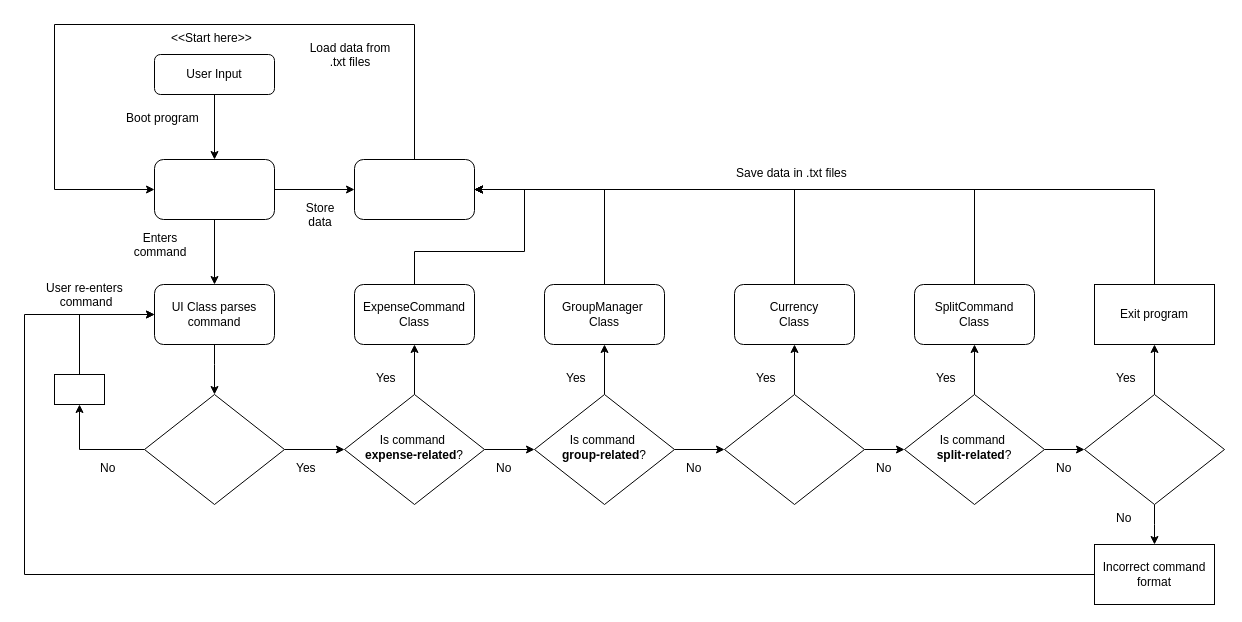
Some shapes in this 1242 by 622 pixel diagram are drawn without their labels. The shapes that lost their labels are listed below. From the top down, each one's centre as x and y in pixels, then its label:
the point at 214,189: O$P$ Main Class
the point at 414,189: DataStorage Class
the point at 79,389: Invalid
the point at 214,449: Is command valid?
the point at 794,449: Is command currency-related ?
the point at 1154,449: Is command 'exit' ?
